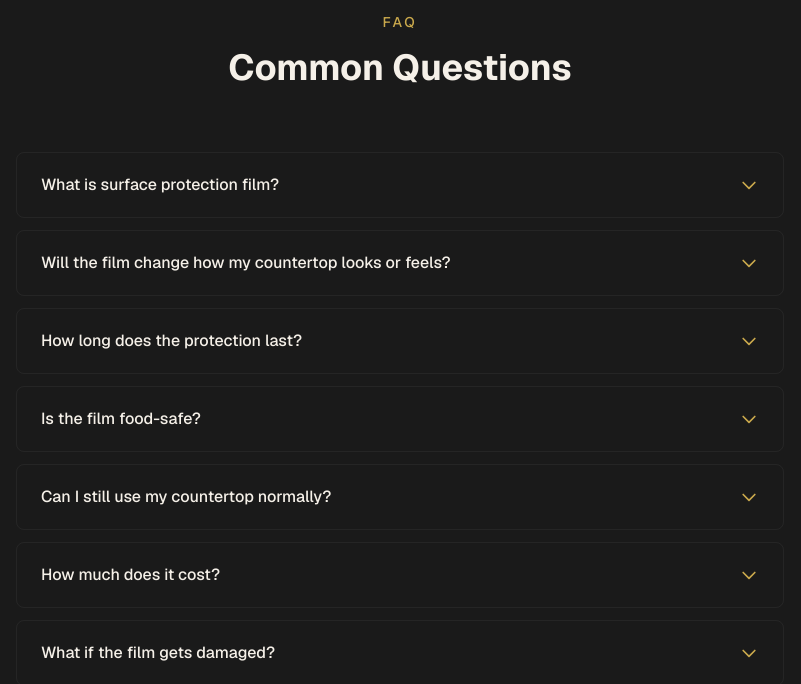
Test: FAQ › expands a question and reveals the answer
The image size is (801, 684).
Step 1. Click the button "Is the film food-safe?" → coordinates (121, 418), box [17, 387, 783, 451]
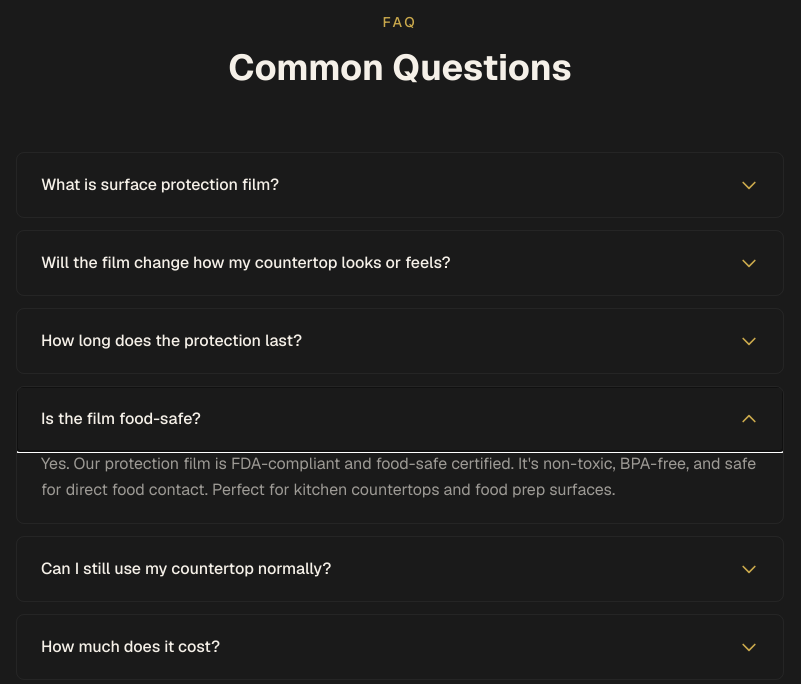
Expected: the button "Is the film food-safe?" is expanded, [17, 387, 783, 451]
Expected: the text "FDA-compliant" is shown, [41, 453, 756, 500]
